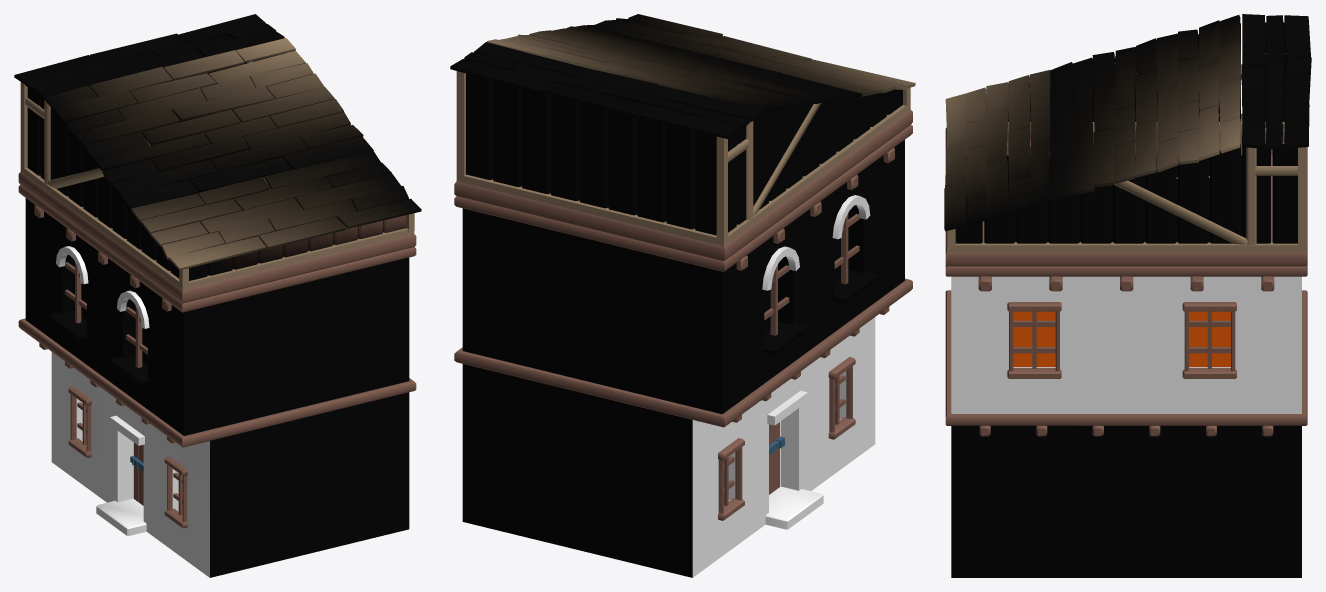
Rendered from civilian_house_37_g.FBX.
3 renders of one model, left to right at view 1: azimuth 30°, elevation 25°; view 2: azimuth 150°, elevation 25°; view 3: azimuth 270°, elevation 25°, orthographic. The views are drawn at different scales.
Parts seen in each view (by area): view 1: civilian_house_37_g_LOD0; view 2: civilian_house_37_g_LOD0; view 3: civilian_house_37_g_LOD0.
Boxes of the visible parts, bbox=[...] form: civilian_house_37_g_LOD0: bbox=[14, 14, 421, 577]; civilian_house_37_g_LOD0: bbox=[450, 14, 915, 577]; civilian_house_37_g_LOD0: bbox=[944, 14, 1311, 577].
Size of what is drawn, in the model's own units: 632 by 964 by 733.
